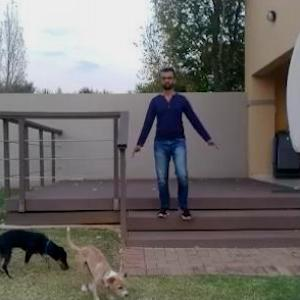land: (132, 70, 215, 226)
